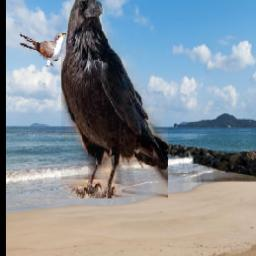Crow: (61, 0, 168, 199)
Cuckoo: (21, 33, 67, 68)
